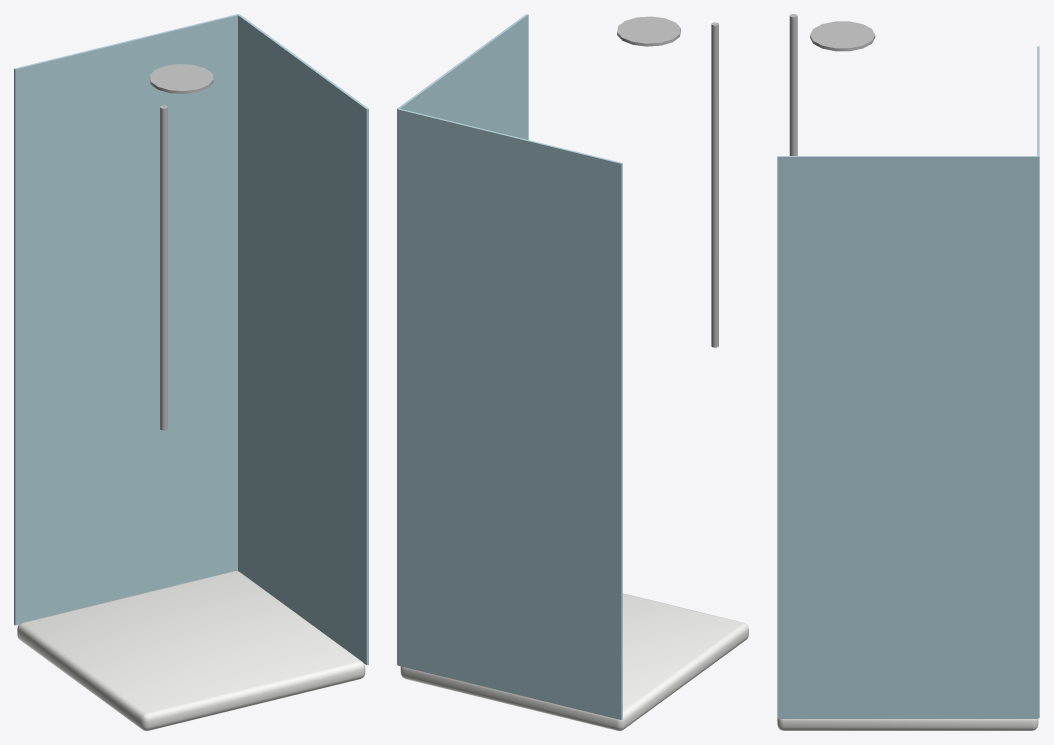
The model's file is home.bath.shower_enclosure_800.glb.
The picture shows the model from 3 angles, left to right: view 1: azimuth 30°, elevation 25°; view 2: azimuth 150°, elevation 25°; view 3: azimuth 270°, elevation 25°; orthographic projection.
Parts seen in each view (by area): view 1: main__glass, main__ceramic, main__steel_stainless; view 2: main__glass, main__ceramic, main__steel_stainless; view 3: main__glass, main__ceramic, main__steel_stainless.
Boxes of the visible parts, x1,y1,x2,y2 form: main__glass: (14,14,368,665); main__ceramic: (17,571,365,730); main__steel_stainless: (149,64,213,430); main__glass: (397,14,622,719); main__ceramic: (400,593,748,730); main__steel_stainless: (617,16,718,347); main__glass: (777,46,1039,718); main__ceramic: (777,719,1038,730); main__steel_stainless: (789,14,875,155).
Size of the model in its own units: 0.804 by 2.11 by 0.804.
